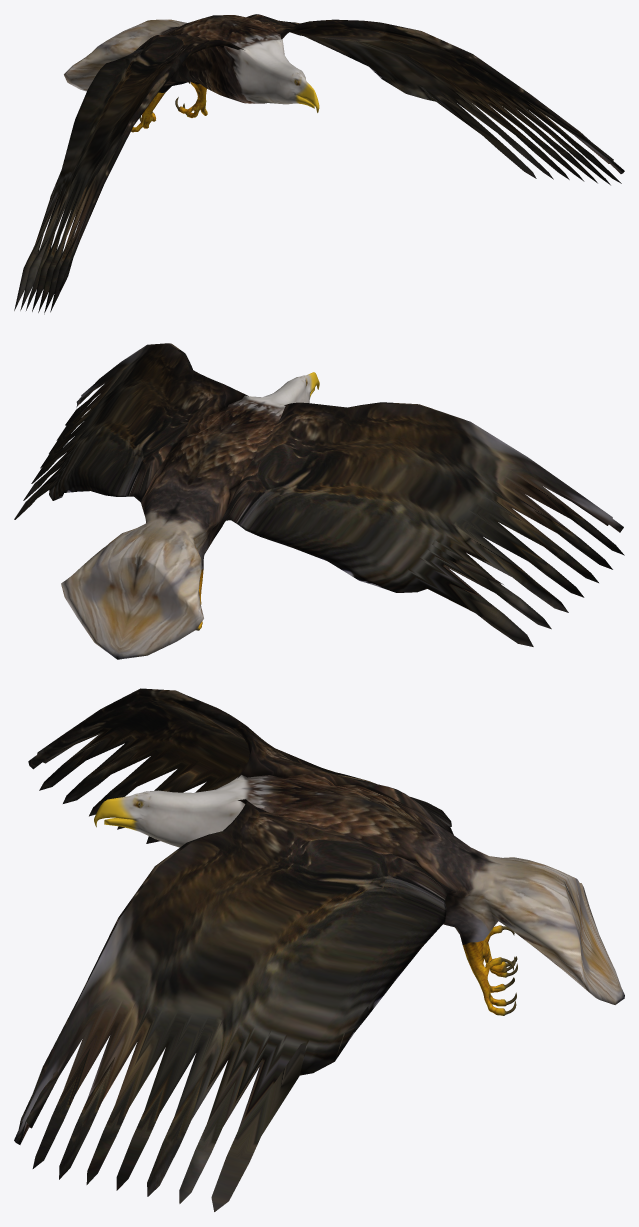
Rendered from Eagle-original_000021.obj.
3 views of the same model, one above another, from view 1: azimuth 30°, elevation 25°; view 2: azimuth 150°, elevation 25°; view 3: azimuth 270°, elevation 25° (orthographic). The views are drawn at different scales.
Parts seen in each view (by area): view 1: Flugel_Plane.003; view 2: Flugel_Plane.003; view 3: Flugel_Plane.003.
Boxes of the visible parts, x1,y1,x2,y2 form: Flugel_Plane.003: [14, 14, 624, 314]; Flugel_Plane.003: [14, 343, 624, 659]; Flugel_Plane.003: [14, 688, 624, 1211].
Size of the model in its own units: 9.25 by 3.23 by 6.51.
Materials: 1 (1 with a texture image).
